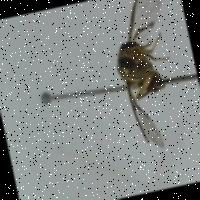Oriental-fruit-fly: (93, 0, 198, 161)
